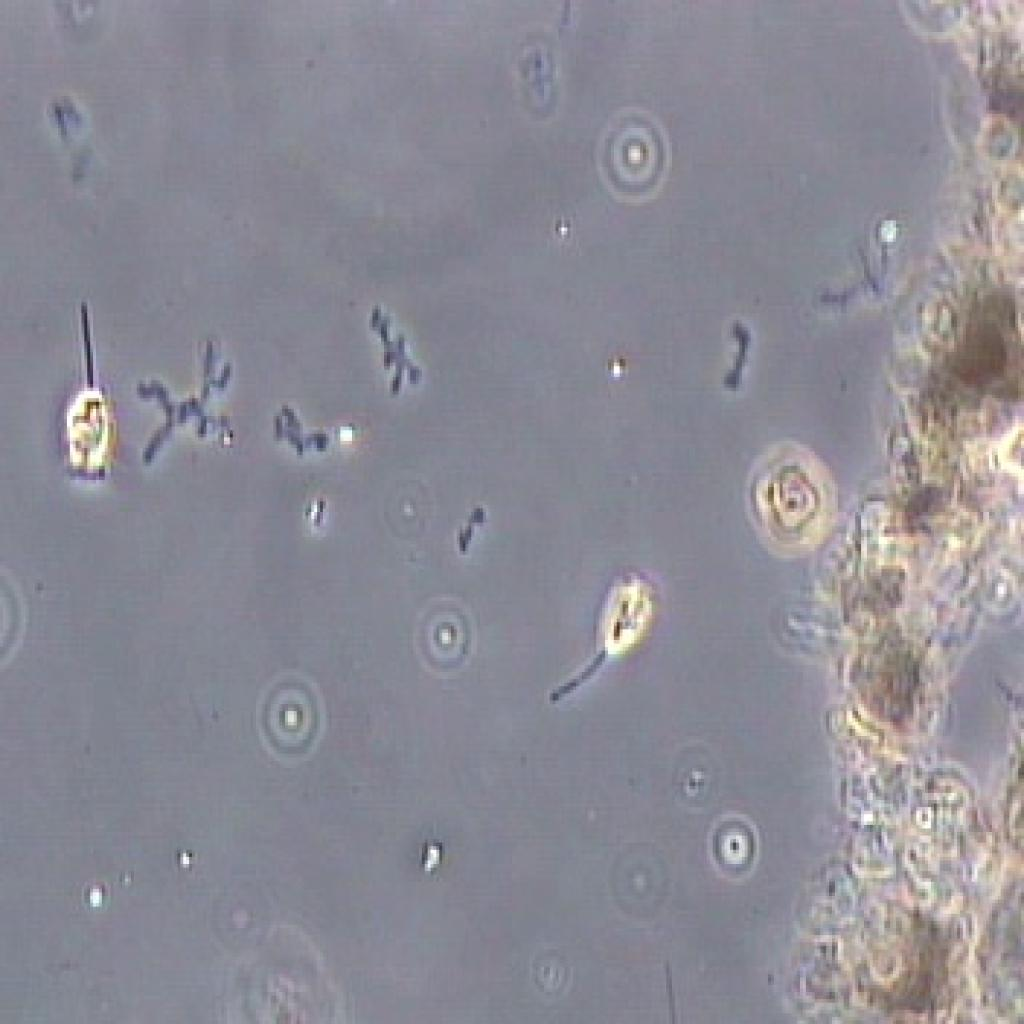Vorticella: (515, 528, 678, 720)
